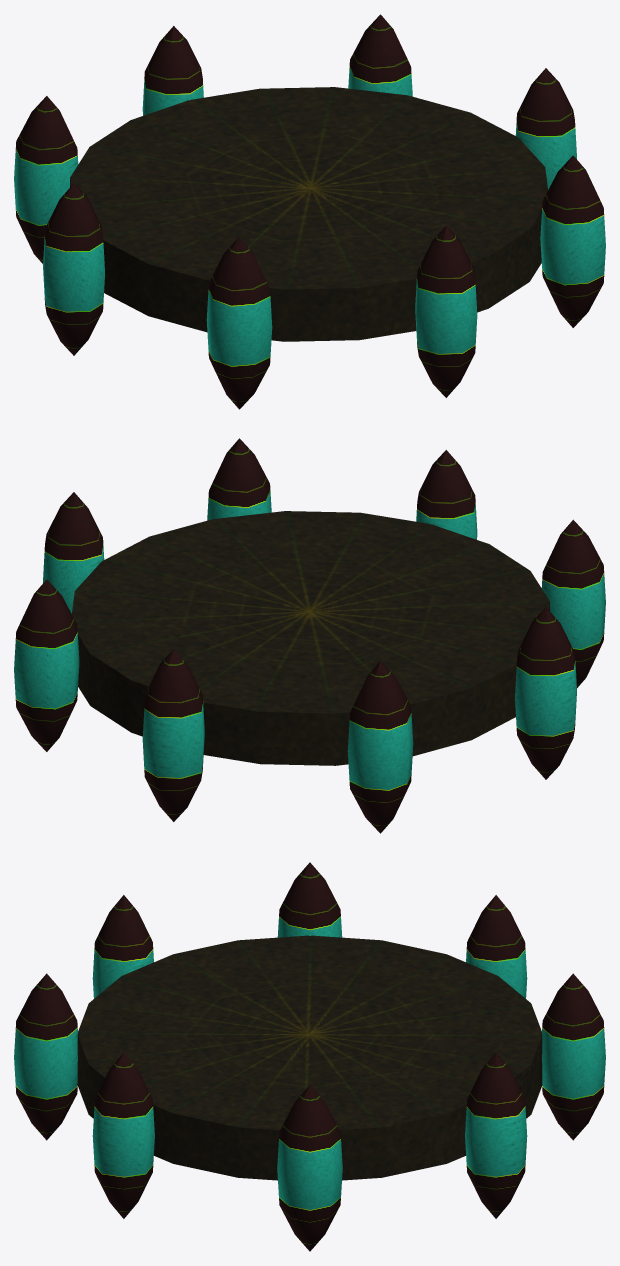
The model's file is drone.fbx.
3 renders of one model, top to bottom at view 1: azimuth 30°, elevation 25°; view 2: azimuth 150°, elevation 25°; view 3: azimuth 270°, elevation 25°, orthographic. The views are drawn at different scales.
Visible parts, largest first — view 1: 土台, サブ; view 2: 土台, サブ; view 3: 土台, サブ.
Boxes of the visible parts, x1,y1,x2,y2 form: 土台: [70, 87, 547, 341]; サブ: [14, 14, 605, 409]; 土台: [72, 511, 549, 765]; サブ: [14, 438, 605, 833]; 土台: [77, 935, 542, 1180]; サブ: [14, 862, 605, 1251].
Size of the model in its own units: 24.4 by 7.61 by 24.4.
